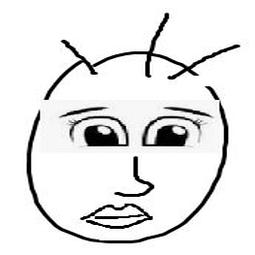cupid_mouth: (78, 202, 156, 231)
eye: (60, 113, 134, 153), (141, 113, 210, 154)
eyebrow: (56, 101, 109, 120), (160, 105, 217, 122)
pointy_nose: (106, 154, 162, 198)
